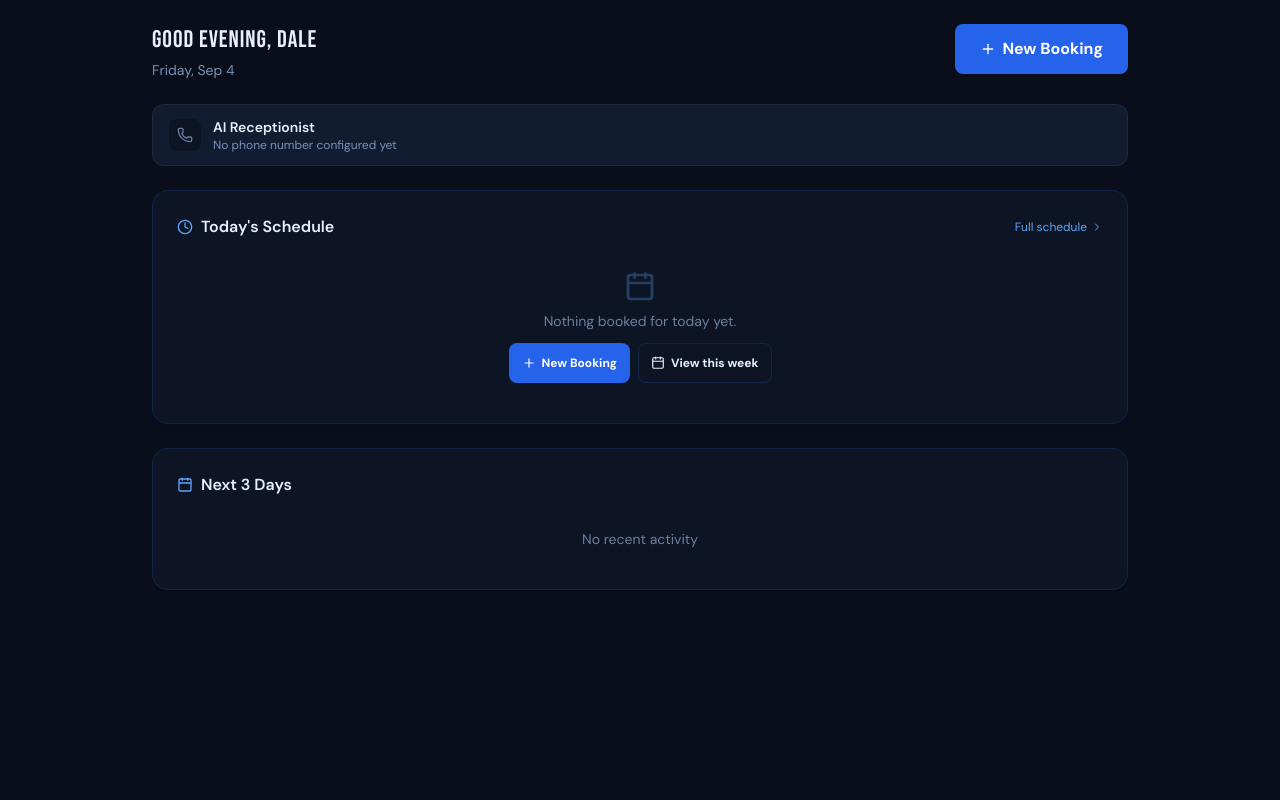
Test: DashboardHome — New Booking button (C3, 2026-05-16) › HAPPY: button is visible on a configured tenant and opens the panel
Click the button with aria-label "create a new booking" at [1042, 49], box left=955, top=24, right=1128, bottom=74
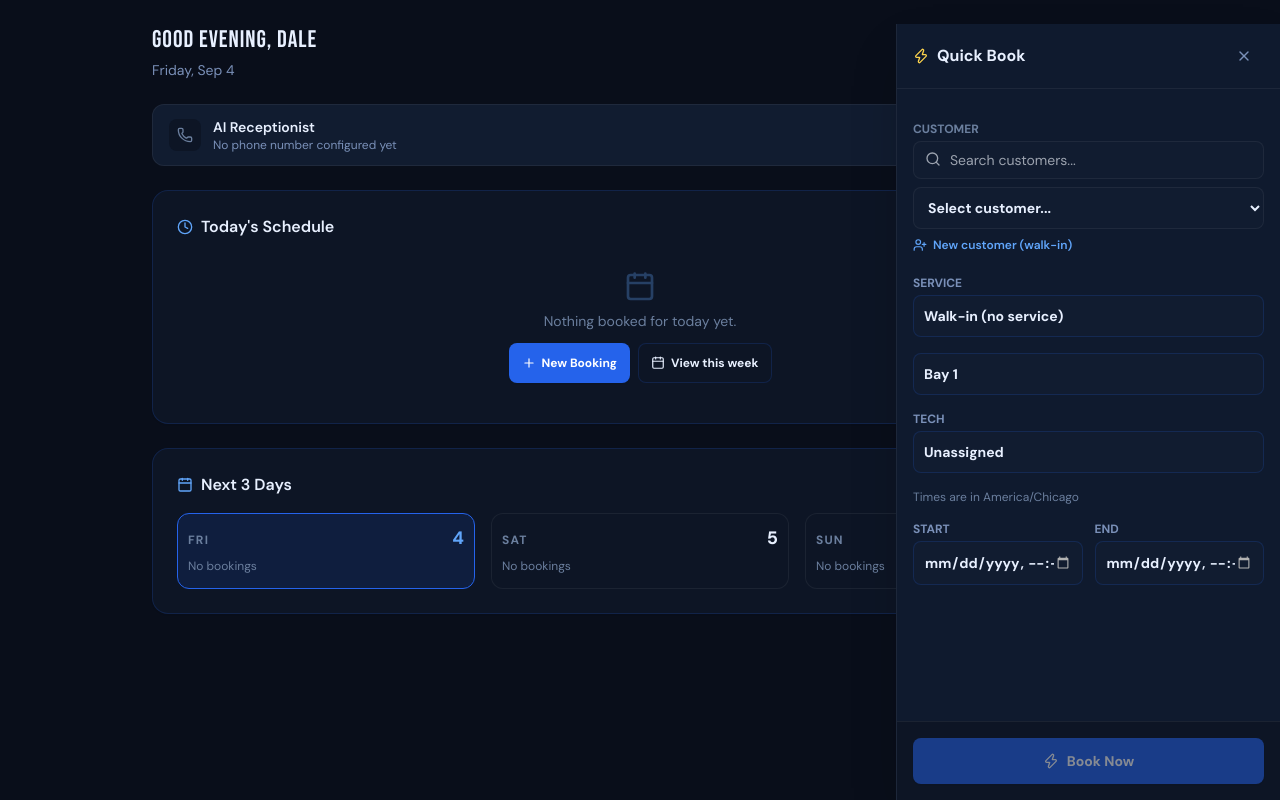
Expected: the element with test id "quick-book-panel" is shown, left=896, top=24, right=1279, bottom=799
